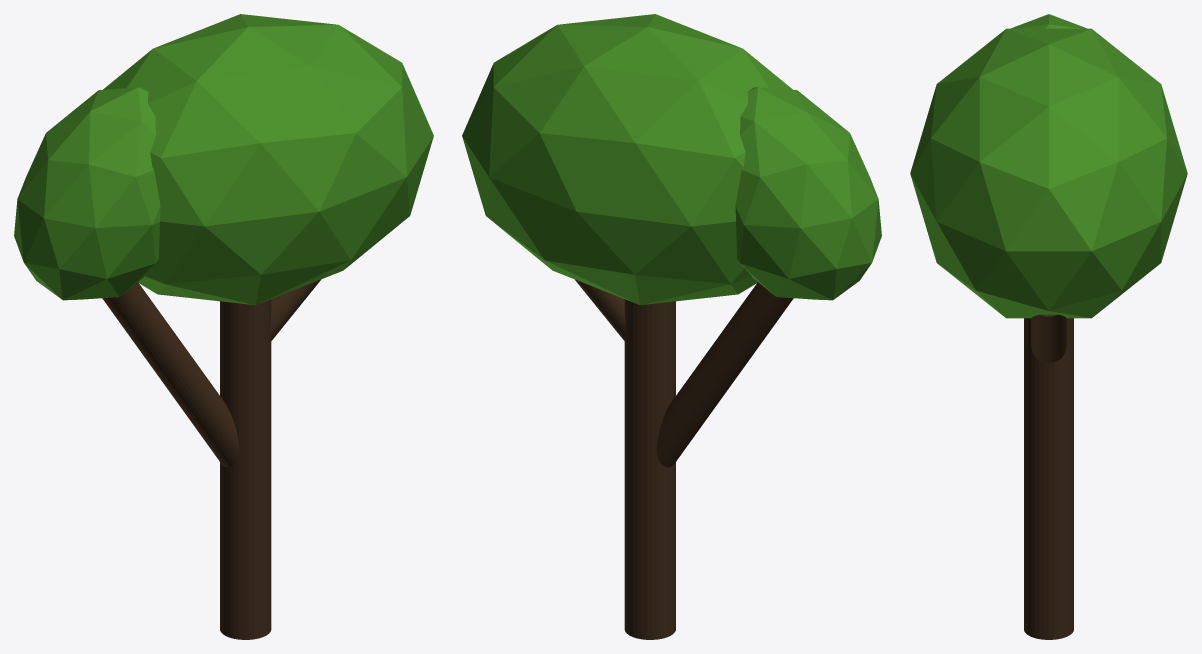
File: Tree1.fbx
3 renders of one model, left to right at view 1: azimuth 30°, elevation 25°; view 2: azimuth 150°, elevation 25°; view 3: azimuth 270°, elevation 25°, orthographic. The views are drawn at different scales.
Visible parts, largest first — view 1: Icosphere.001, Icosphere.002, Circle.003, Cylinder.011, Cylinder.010; view 2: Icosphere.001, Icosphere.002, Circle.003, Cylinder.011, Cylinder.010; view 3: Icosphere.001, Circle.003, Cylinder.010, Icosphere.002.
Boxes of the visible parts, x1,y1,x2,y2 form: Icosphere.001: (103, 14, 433, 305); Icosphere.002: (14, 87, 160, 300); Circle.003: (220, 299, 271, 639); Cylinder.011: (102, 282, 239, 467); Cylinder.010: (270, 279, 320, 340); Icosphere.001: (462, 14, 792, 305); Icosphere.002: (735, 87, 881, 300); Circle.003: (624, 299, 675, 639); Cylinder.011: (656, 282, 793, 467); Cylinder.010: (575, 279, 625, 340); Icosphere.001: (910, 28, 1187, 318); Circle.003: (1024, 318, 1073, 639); Cylinder.010: (1031, 314, 1066, 362); Icosphere.002: (1011, 14, 1086, 28).
Bounding box in the file's own units: 836 × 1238 × 531.
